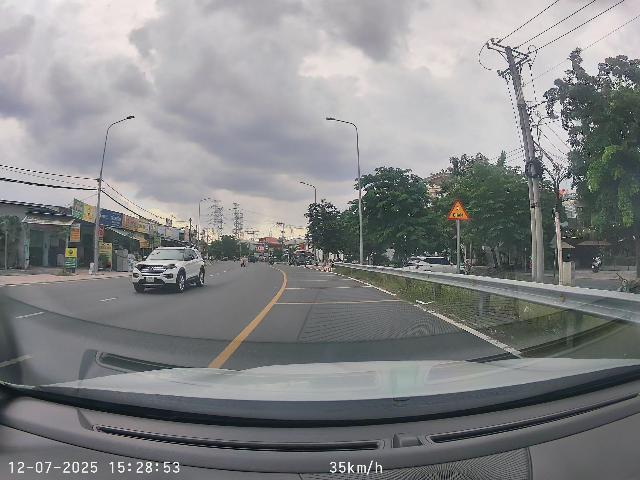245-di-cham: (447, 198, 470, 221)
